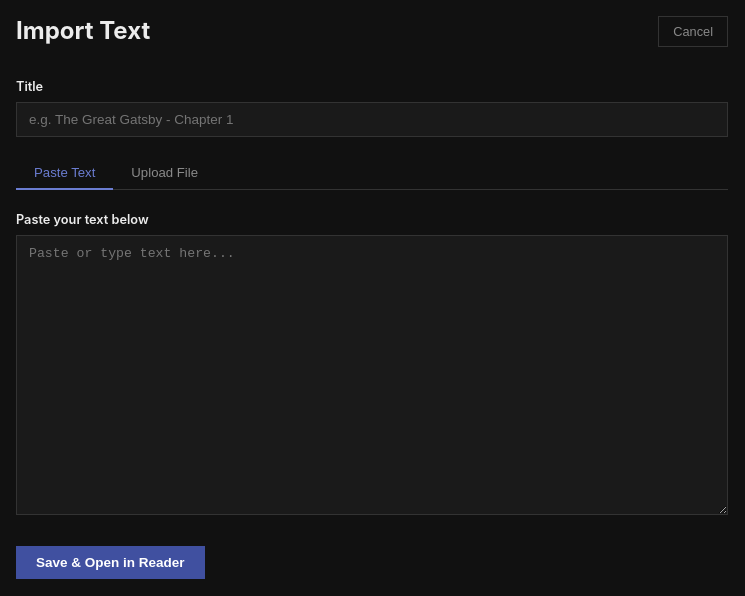
Test: ImportPanel — Winglet Book routing › shows the confirm card instead of the normal import flow for a recognized book
Click the tab "Upload File".
click(165, 174)  # box [113, 157, 216, 190]
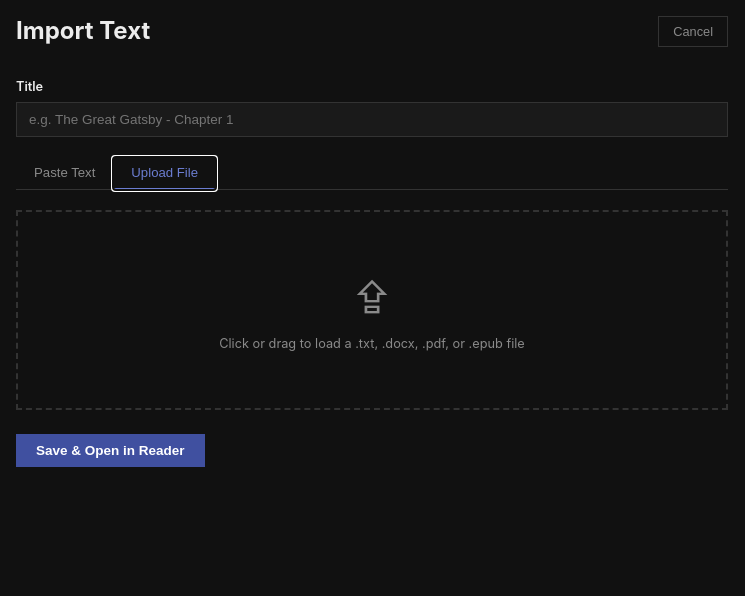
Click the button with aria-label "Drop file here or click to browse".
click(372, 310)  # box [16, 210, 728, 410]
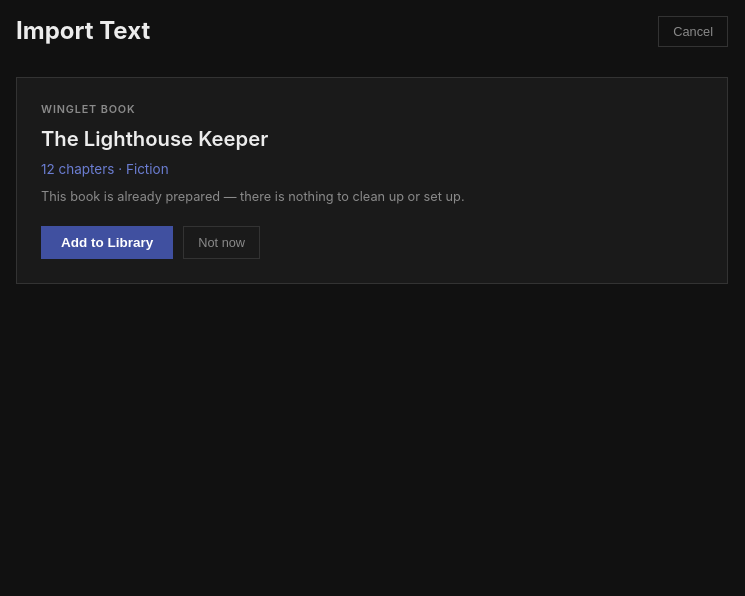
Check: the heading "The Lighthouse Keeper" is shown, box [41, 126, 268, 151]
Check: the text "12 chapters · Fiction" is shown, box [41, 161, 169, 177]
Check: the label labelled "Title" is gone
